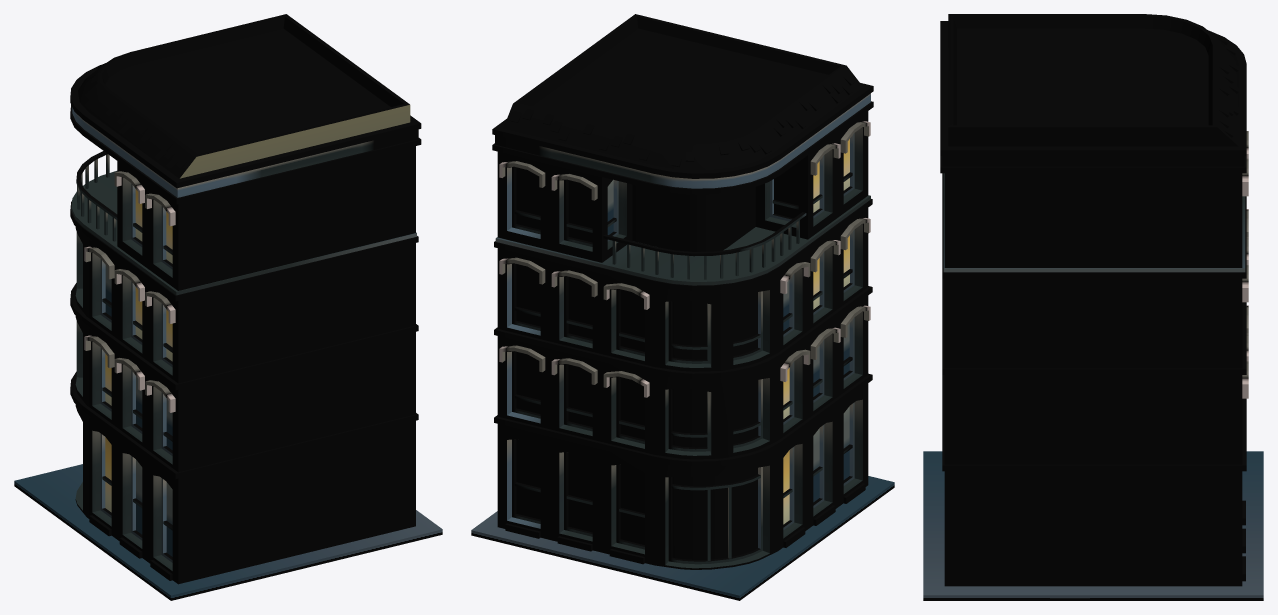
Rendered from Building_20C.fbx.
The picture shows the model from 3 angles, left to right: view 1: azimuth 30°, elevation 25°; view 2: azimuth 150°, elevation 25°; view 3: azimuth 270°, elevation 25°; orthographic projection. The views are drawn at different scales.
Parts seen in each view (by area): view 1: Building_20C, Window_Lights_20C; view 2: Building_20C, Window_Lights_20C; view 3: Building_20C.
Boxes of the visible parts, x1,y1,x2,y2 form: Building_20C: (14, 14, 442, 600); Window_Lights_20C: (105, 189, 172, 512); Building_20C: (471, 14, 894, 600); Window_Lights_20C: (516, 139, 849, 559); Building_20C: (923, 14, 1263, 600).
Bounding box in the file's own units: 1600 × 2400 × 1600.
